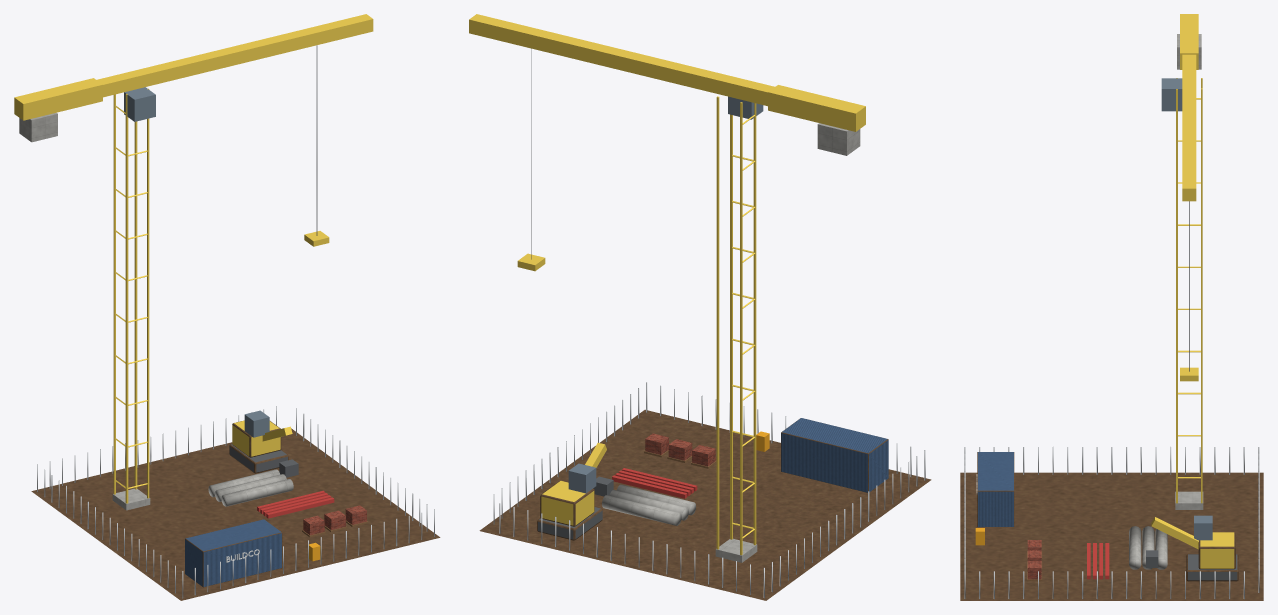
File: yard.gltf
The picture shows the model from 3 angles, left to right: view 1: azimuth 30°, elevation 25°; view 2: azimuth 150°, elevation 25°; view 3: azimuth 270°, elevation 25°; orthographic projection. The views are drawn at different scales.
Parts seen in each view (by area): view 1: yard; view 2: yard; view 3: yard.
Boxes of the visible parts, left/top/right/bottom form: yard: left=14, top=14, right=440, bottom=600; yard: left=469, top=14, right=931, bottom=600; yard: left=960, top=14, right=1263, bottom=600.
Size of the model in its own units: 5.3 by 6.2 by 3.92.
Materials: 12 (5 with a texture image).
